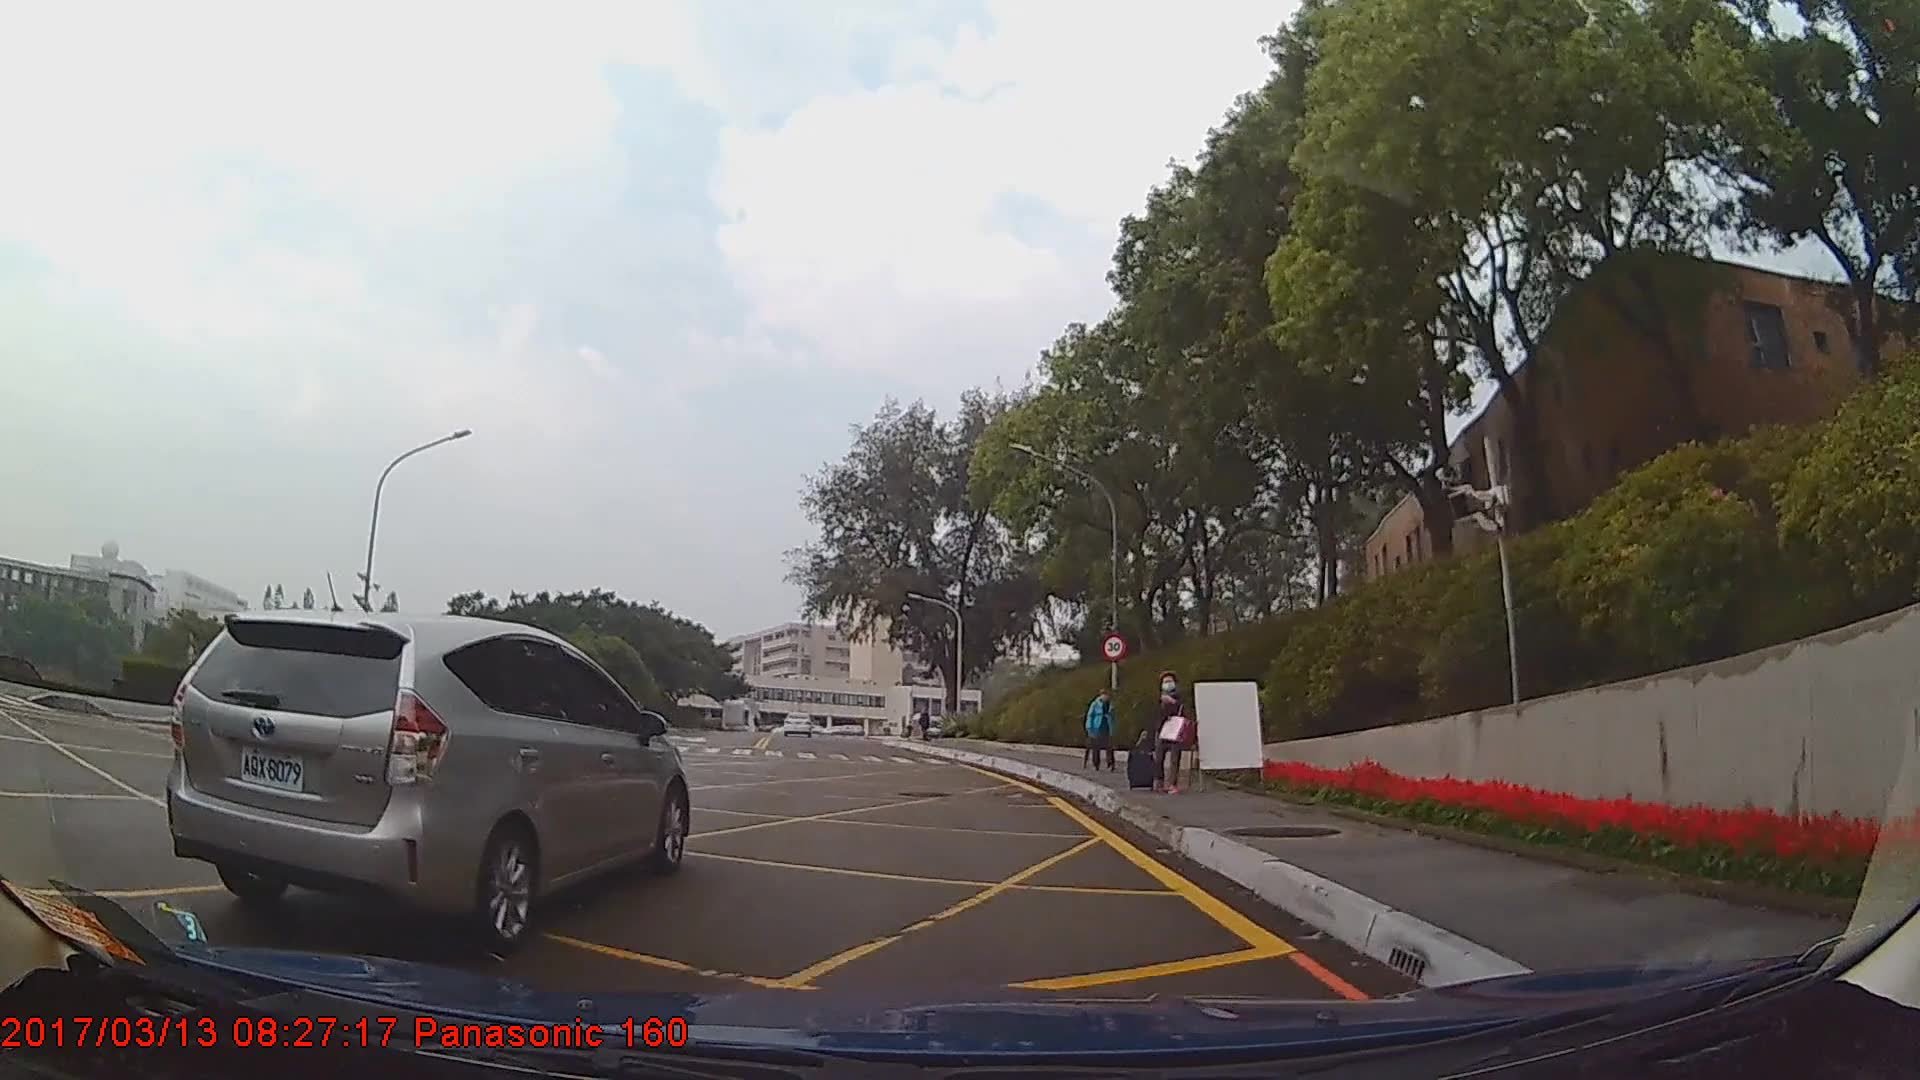pedestrian: (1131, 673, 1197, 801), (1085, 685, 1120, 773)
vehicle: (161, 608, 688, 953), (782, 708, 815, 737)
